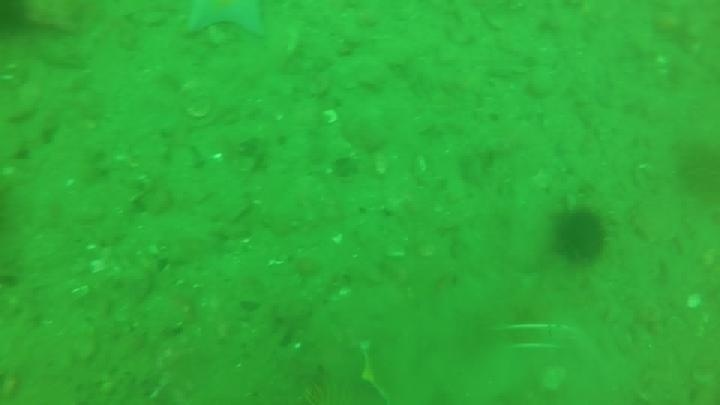echinus: (548, 205, 611, 267), (674, 139, 720, 203)
starfish: (178, 1, 270, 43)
